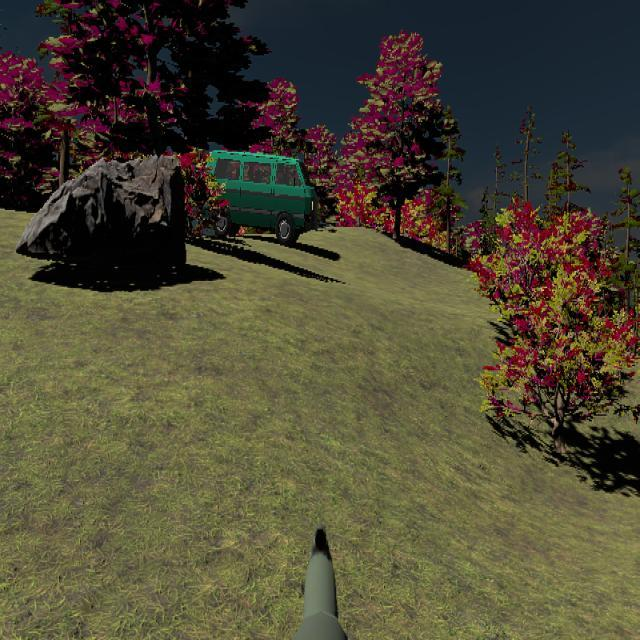car: (185, 149, 320, 246)
